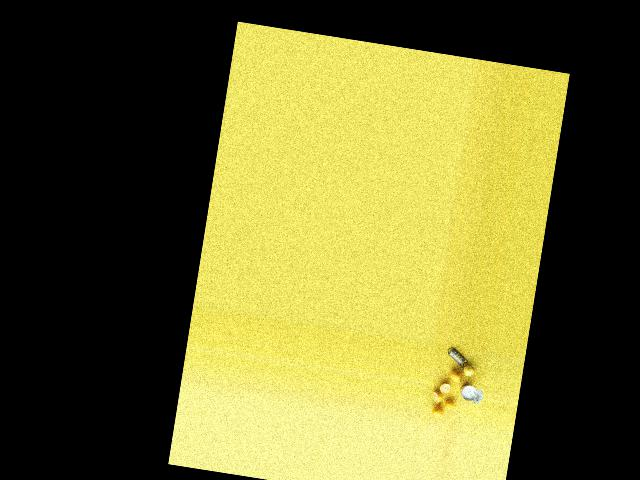lemon: (460, 365, 475, 379)
